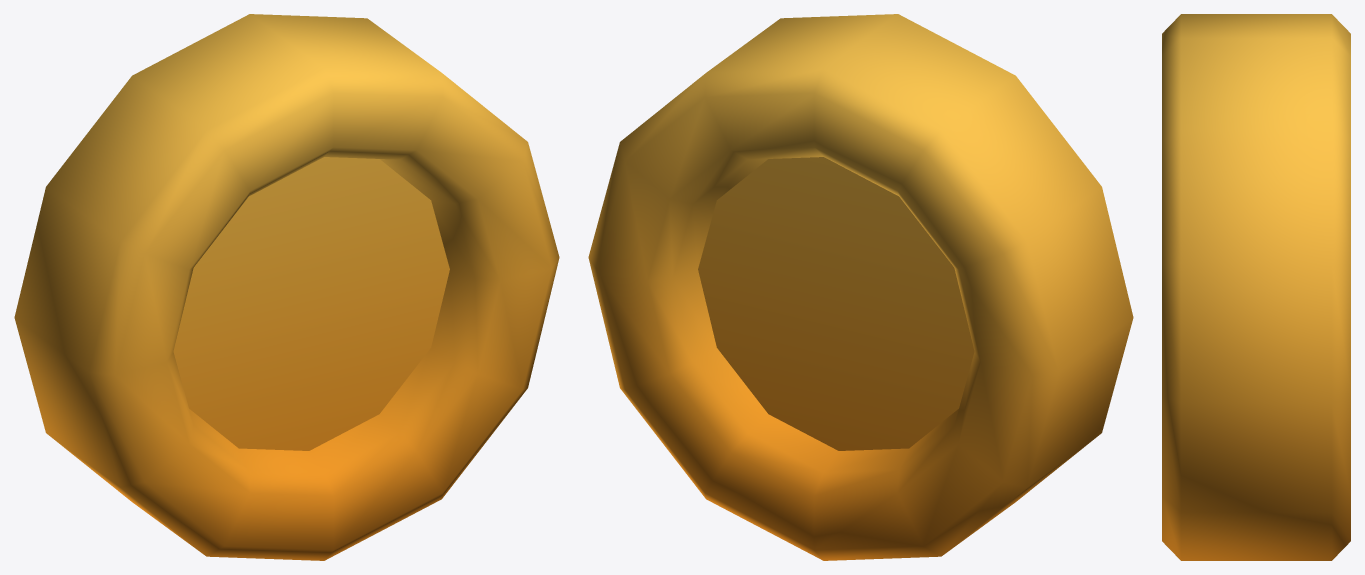
The model's file is coin_toon_material_0.001.glb.
3 renders of one model, left to right at view 1: azimuth 30°, elevation 25°; view 2: azimuth 150°, elevation 25°; view 3: azimuth 270°, elevation 25°, orthographic.
Visible parts, largest first — view 1: coin_toon_material_0.001; view 2: coin_toon_material_0.001; view 3: coin_toon_material_0.001.
Boxes of the visible parts, <box> form: coin_toon_material_0.001: <box>14,14,559,560</box>; coin_toon_material_0.001: <box>588,14,1133,560</box>; coin_toon_material_0.001: <box>1162,14,1350,560</box>.
Bounding box in the file's own units: 0.5375 × 0.5375 × 0.1849.
Materials: 1 (1 with a texture image).
